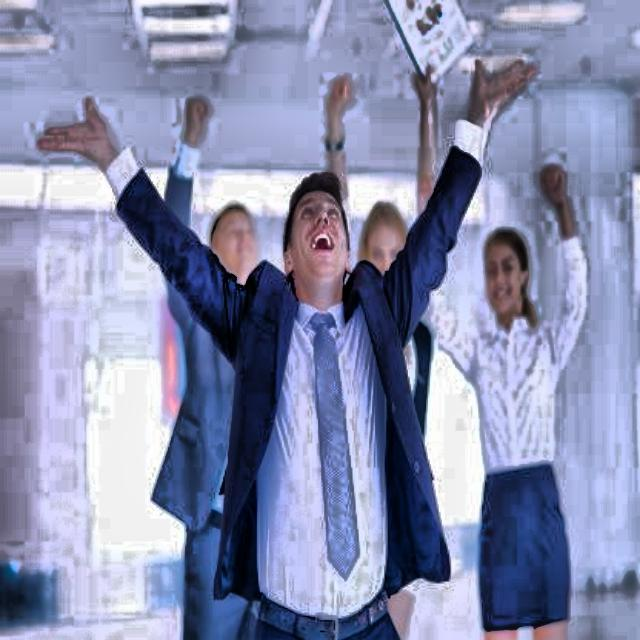happy: (278, 173, 356, 303), (483, 222, 538, 320), (212, 195, 265, 291), (365, 194, 417, 284)
